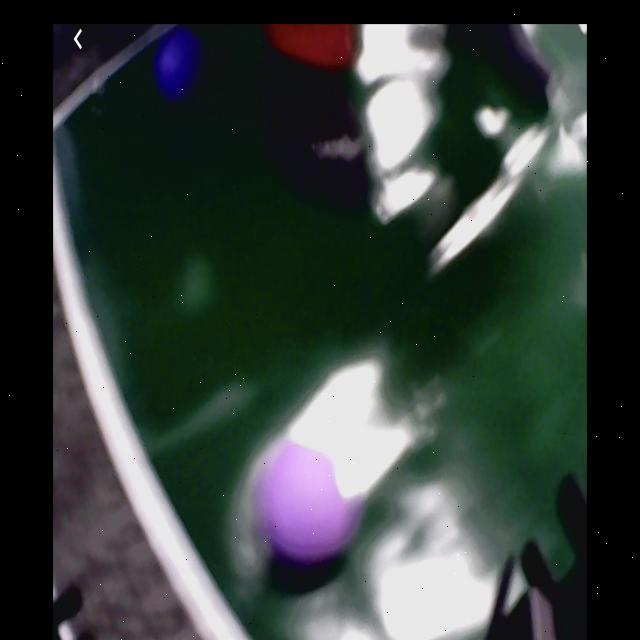ball: (268, 445, 349, 558), (157, 31, 202, 98)
